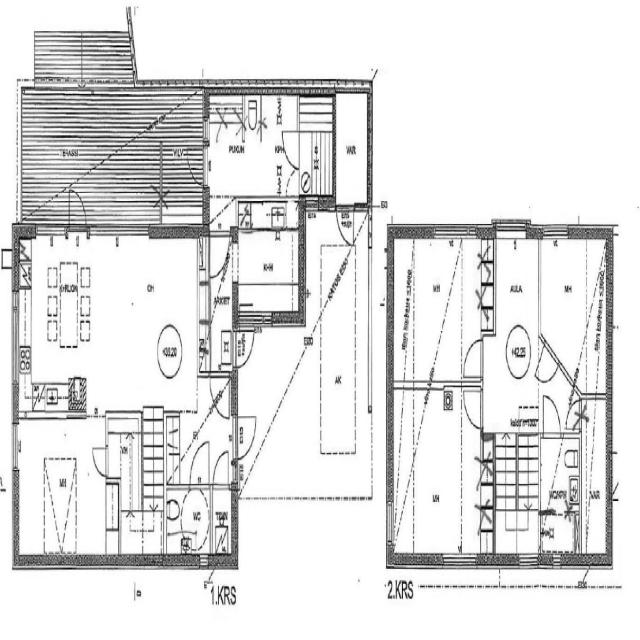door: (206, 220, 232, 282), (209, 371, 234, 421), (188, 437, 211, 488), (462, 332, 484, 383), (235, 410, 257, 460), (235, 322, 257, 369), (462, 382, 484, 429), (334, 200, 356, 246), (186, 142, 209, 186), (68, 181, 88, 230), (539, 341, 560, 386), (540, 392, 561, 436), (280, 126, 301, 170), (212, 446, 231, 489), (90, 441, 109, 480), (282, 166, 300, 200), (566, 395, 582, 433)
window: (94, 222, 153, 243), (440, 548, 478, 572), (9, 294, 19, 384), (497, 217, 529, 240), (384, 492, 396, 549), (34, 219, 67, 239), (540, 221, 570, 242), (10, 419, 20, 474), (516, 549, 540, 571), (258, 307, 274, 336), (580, 557, 591, 589)
zone: (18, 234, 233, 416), (390, 387, 490, 562), (393, 231, 488, 386), (13, 416, 113, 562), (205, 94, 298, 212), (538, 233, 606, 389), (486, 231, 540, 389), (233, 224, 303, 324), (581, 398, 610, 560), (334, 87, 371, 203), (299, 98, 334, 200), (165, 486, 212, 559), (539, 430, 581, 508), (539, 505, 581, 561), (120, 512, 164, 559), (241, 196, 298, 232), (211, 484, 235, 560), (300, 93, 333, 132)
